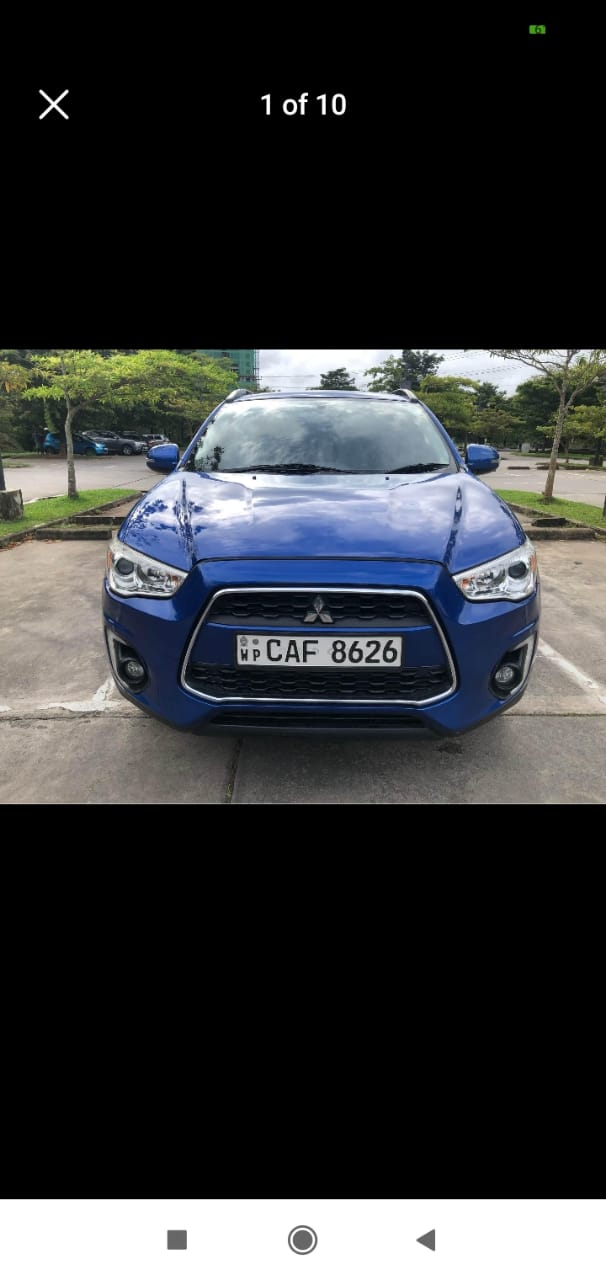number_plate: (231, 633, 406, 668)
